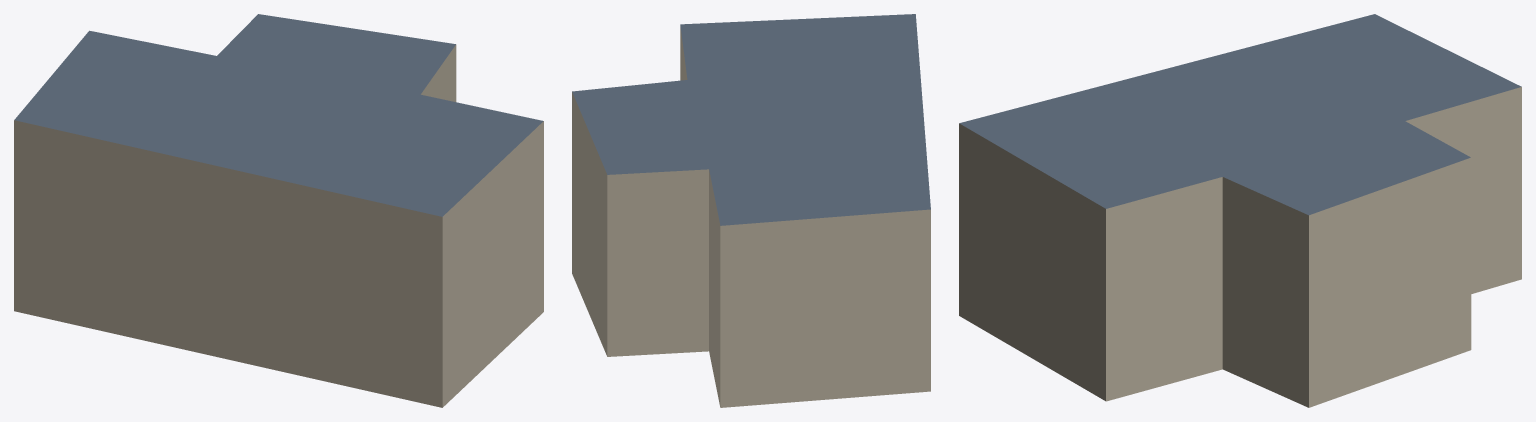
3 renders of one model, left to right at view 1: azimuth 30°, elevation 25°; view 2: azimuth 150°, elevation 25°; view 3: azimuth 270°, elevation 25°, orthographic. The views are drawn at different scales.
Parts seen in each view (by area): view 1: tuile; view 2: tuile; view 3: tuile.
Boxes of the visible parts, x1,y1,x2,y2 form: tuile: (14,14,543,407); tuile: (572,14,930,407); tuile: (959,14,1521,407).
Bounding box in the file's own units: 9.4 × 4.19 × 11.1.
